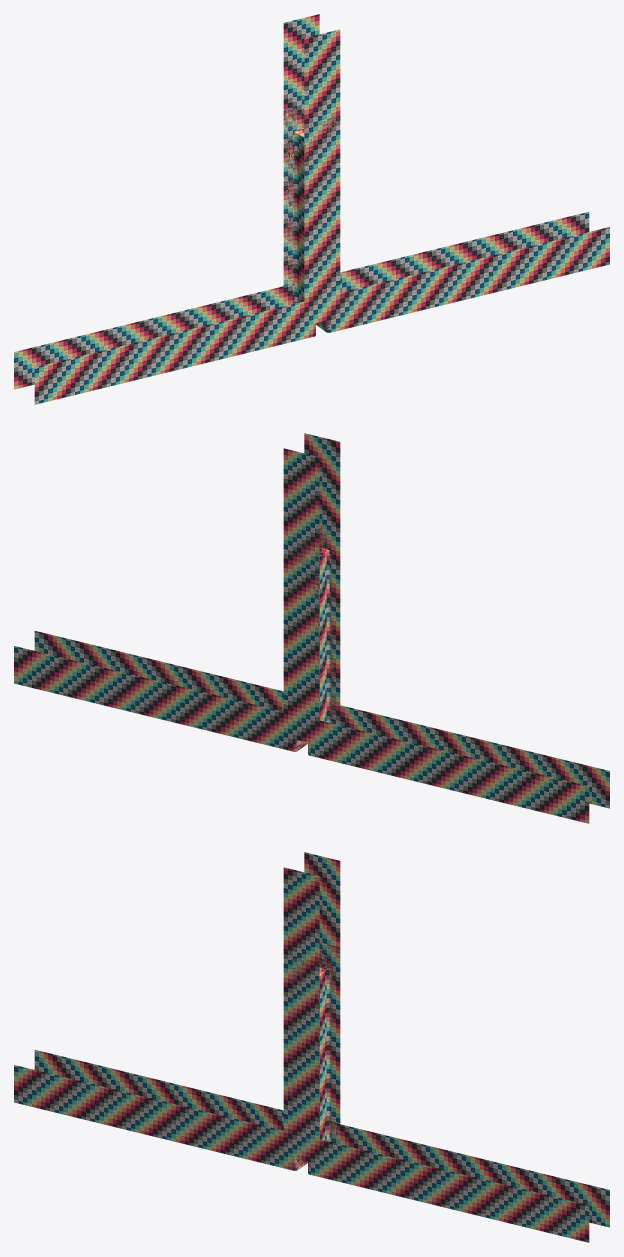
Rendered from wallManualMorph.glb.
3 views of the same model, one above another, from view 1: azimuth 30°, elevation 25°; view 2: azimuth 150°, elevation 25°; view 3: azimuth 330°, elevation 25° (orthographic).
Visible parts, largest first — view 1: wallMaxWidth, wallMaxHeight, wallHoleMaxWidth, wallHoleMaxHeight, wall; view 2: wallMaxWidth, wallMaxHeight, wallHoleMaxWidth, wallHoleMaxHeight, wall; view 3: wallMaxWidth, wallMaxHeight, wallHoleMaxWidth, wallHoleMaxHeight, wall.
Part boxes in pixels (x1,y1,x2,y2): wallMaxWidth: [14, 212, 609, 404]; wallMaxHeight: [283, 14, 340, 324]; wallHoleMaxWidth: [120, 238, 503, 378]; wallHoleMaxHeight: [283, 106, 338, 337]; wall: [283, 284, 340, 338]; wallMaxWidth: [14, 631, 609, 823]; wallMaxHeight: [283, 433, 340, 743]; wallHoleMaxWidth: [120, 657, 503, 797]; wallHoleMaxHeight: [284, 524, 339, 754]; wall: [283, 705, 340, 757]; wallMaxWidth: [14, 1050, 609, 1242]; wallMaxHeight: [283, 852, 340, 1162]; wallHoleMaxWidth: [120, 1076, 503, 1216]; wallHoleMaxHeight: [284, 942, 340, 1174]; wall: [283, 1122, 340, 1176].
Bounding box in the file's own units: 16 × 8 × 1.
1 material, 1 textured.
